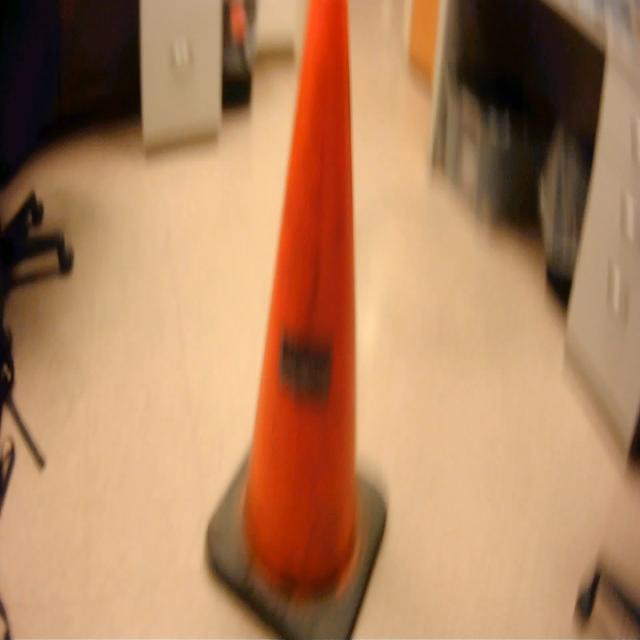traffic cone: (202, 1, 395, 640)
